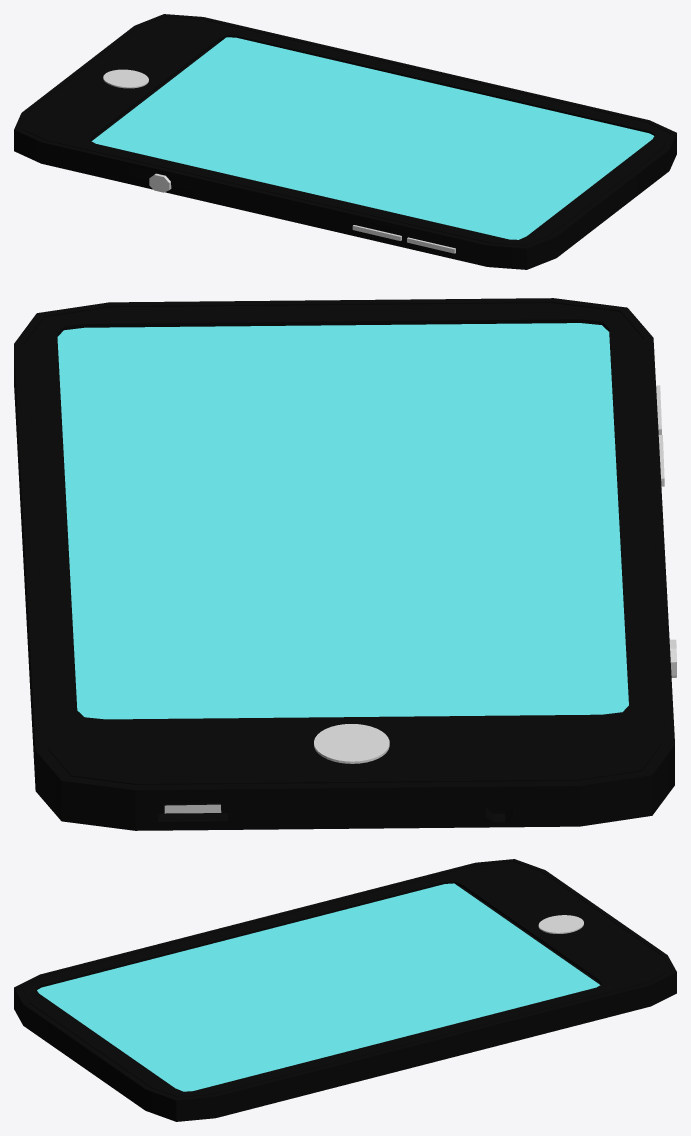
File: tablet.obj
3 views of the same model, one above another, from view 1: azimuth 30°, elevation 25°; view 2: azimuth 150°, elevation 25°; view 3: azimuth 270°, elevation 25° (orthographic). The views are drawn at different scales.
Parts seen in each view (by area): view 1: Object002, Box20183, Cylinder002; view 2: Object002, Box20183, Cylinder002; view 3: Object002, Box20183, Cylinder002.
Part boxes in pixels (x1,y1,x2,y2): Object002: [91, 37, 654, 239]; Box20183: [14, 14, 676, 269]; Cylinder002: [103, 69, 148, 88]; Object002: [57, 323, 628, 719]; Box20183: [14, 298, 676, 830]; Cylinder002: [314, 724, 389, 763]; Object002: [37, 883, 600, 1091]; Box20183: [14, 859, 676, 1121]; Cylinder002: [538, 915, 583, 933].
Bounding box in the file's own units: 763 × 33.44 × 886.
